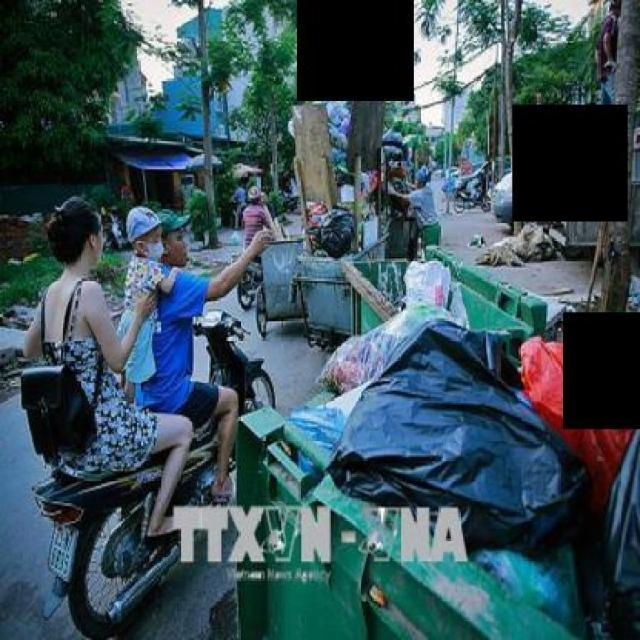plastic bag: (231, 277, 632, 575), (285, 85, 383, 262)
